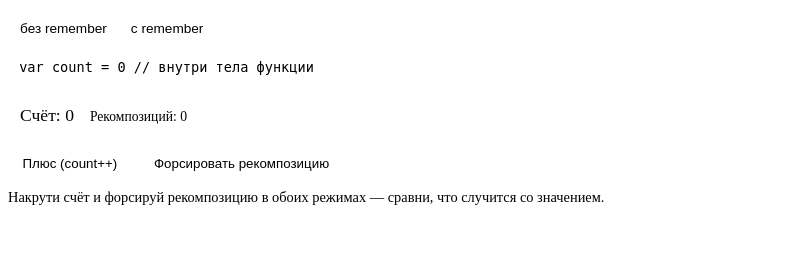
Test: переключение режима обнуляет счёт и рекомпозиции
Click the button "Плюс (count++)" at (70, 164), box top-left (8, 150), bottom-right (132, 177)
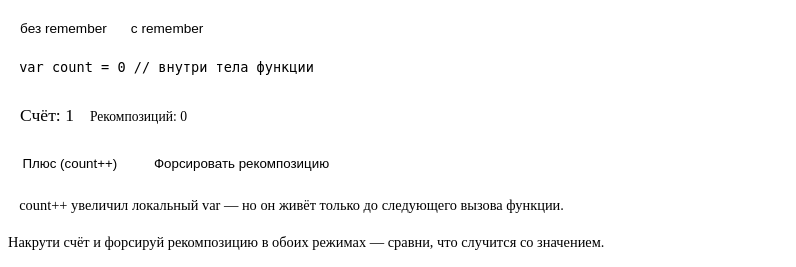
Click the button "Форсировать рекомпозицию" at (242, 164), box top-left (140, 150), bottom-right (344, 177)
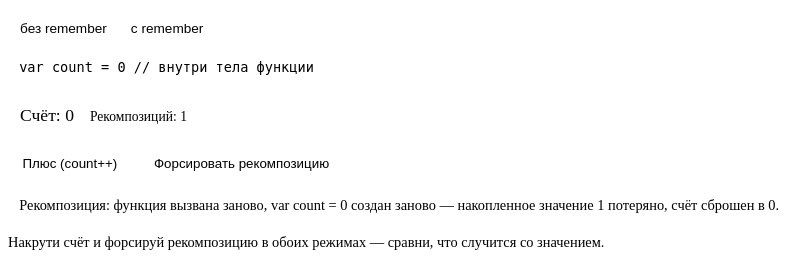
Click the button "с remember" at (167, 28), box top-left (119, 16), bottom-right (215, 41)
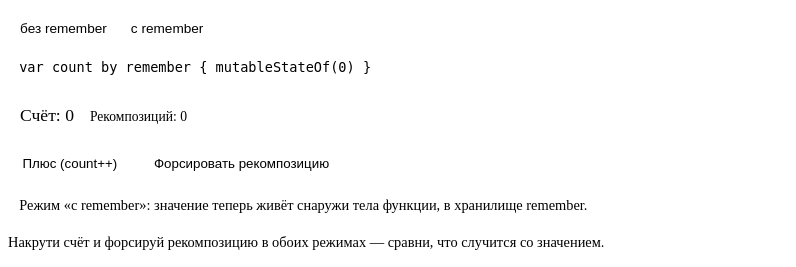
Check: the text "Счёт: 0" is shown, box top-left (20, 105), bottom-right (74, 126)
Check: the text "Рекомпозиций: 0" is shown, box top-left (90, 109), bottom-right (187, 125)
Check: the text "Режим «с remember»" is shown, box top-left (19, 197), bottom-right (588, 213)
